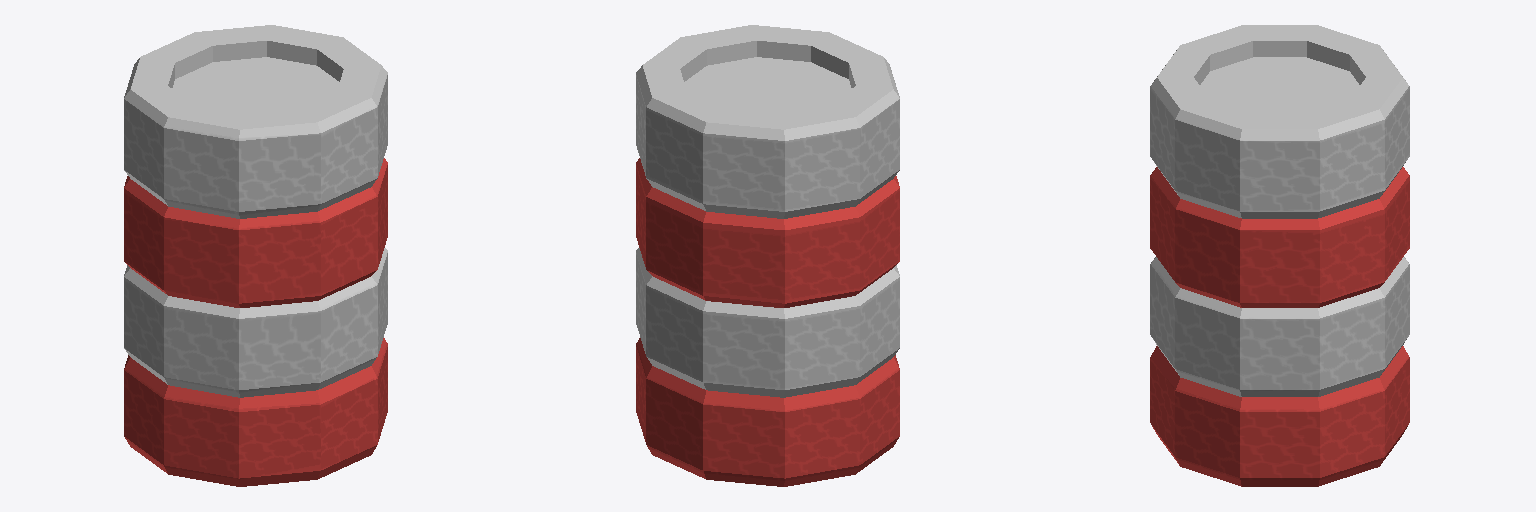
The picture shows the model from 3 angles: view 1: azimuth 30°, elevation 25°; view 2: azimuth 150°, elevation 25°; view 3: azimuth 270°, elevation 25°; orthographic projection.
Visible parts, largest first — view 1: Cylinder; view 2: Cylinder; view 3: Cylinder.
Part boxes in pixels (x1,y1,x2,y2): Cylinder: (124,25,387,486); Cylinder: (636,25,899,486); Cylinder: (1150,25,1409,486).
Bounding box in the file's own units: 0.67 × 1.02 × 0.67.
1 materials, 1 textured.